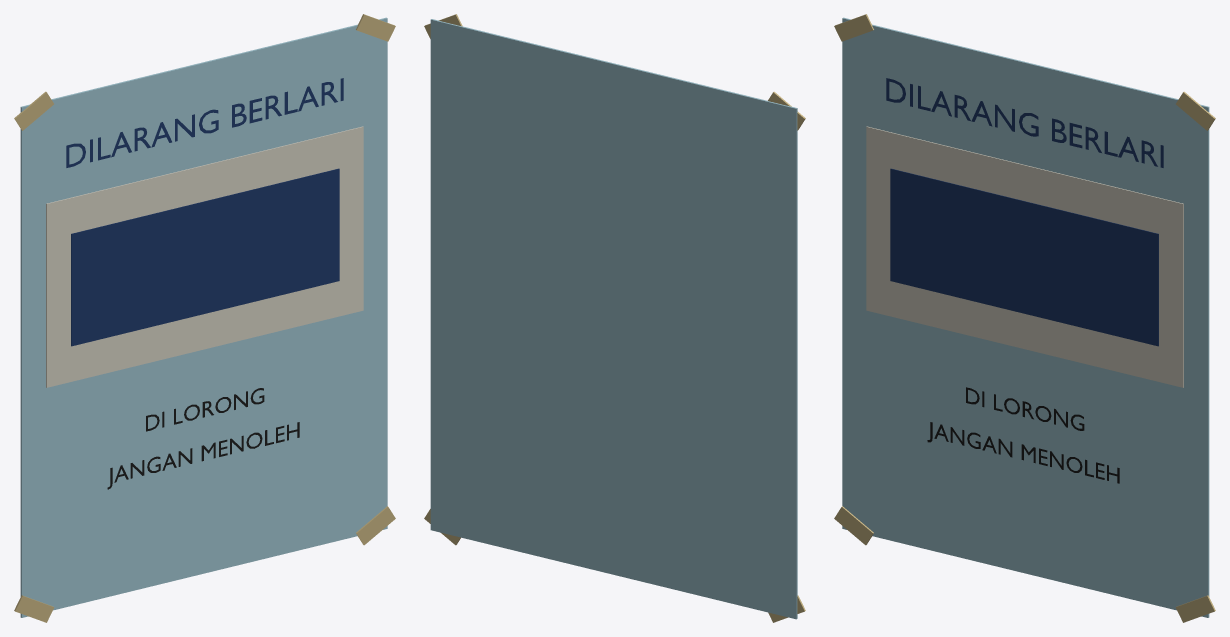
Rendered from poster_b.glb.
The picture shows the model from 3 angles, left to right: view 1: azimuth 30°, elevation 25°; view 2: azimuth 150°, elevation 25°; view 3: azimuth 330°, elevation 25°; orthographic projection.
Visible parts, largest first — view 1: PosterB; view 2: PosterB; view 3: PosterB.
Part boxes in pixels (x1=…): PosterB: x1=14, y1=14, x2=395, y2=622; PosterB: x1=424, y1=14, x2=805, y2=622; PosterB: x1=834, y1=14, x2=1215, y2=622.
Bounding box in the file's own units: 0.6245 × 0.8317 × 0.0055.
